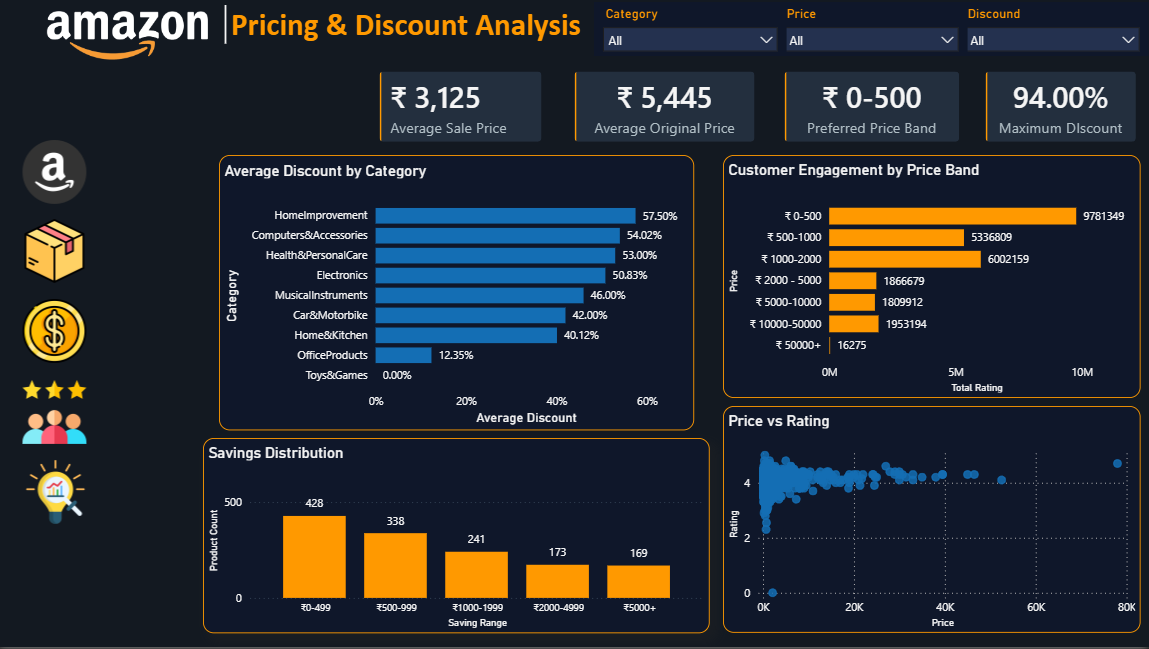

This screenshot's page, from the dashboard's own definition file:
{"tool":"powerbi","page":{"name":"Price","canvas":[1280,720],"ordinal":2},"visuals":[{"type":"slicer","fields":{"Values":["amazon.sale-price_bands"]},"box":[864.4,3.3,214.4,60],"z":0,"group":"g3"},{"type":"image","box":[24.4,13.3,241.1,54.4],"z":0,"group":"g2"},{"type":"cardVisual","fields":{"Data":["Avg(amazon.sale_price)"]},"box":[420,75.6,190,88.9],"z":0,"group":"g4"},{"type":"group","id":"g1","title":"Slides","box":[23.3,156.7,82.2,426.7],"z":0},{"type":"image","box":[23.3,156.7,81.5,71.2],"z":0,"group":"g1"},{"type":"image","box":[24.4,512.3,81.5,71.2],"z":500,"group":"g1"},{"type":"group","id":"g2","title":"Header Icon","box":[24.4,0,629.5,67.8],"z":1000},{"type":"shape","box":[253.9,0,400,56.7],"z":1000,"group":"g2"},{"type":"slicer","fields":{"Values":["amazon.main_category","amazon.sub_category"]},"box":[663.3,3.3,214.4,60],"z":1000,"group":"g3"},{"type":"cardVisual","fields":{"Data":["Avg(amazon.original_price)"]},"box":[636.7,75.6,210,88.9],"z":1000,"group":"g4"},{"type":"image","box":[23.3,244.5,81.5,71.2],"z":1000,"group":"g1"},{"type":"slicer","fields":{"Values":["amazon.discount_band"]},"box":[1065.6,3.3,214.4,60],"z":2000},{"type":"shape","box":[89.5,6.7,327.8,43.3],"z":2000,"group":"g2"},{"type":"cardVisual","fields":{"Data":["amazon.Preferred Price Band"]},"box":[870.1,75.6,204.4,88.9],"z":2000,"group":"g4"},{"type":"image","box":[23.3,333.2,81.5,71.2],"z":2000,"group":"g1"},{"type":"group","id":"g3","title":"Slicer","box":[663.3,3.3,415.6,60],"z":3000},{"type":"cardVisual","fields":{"Data":["Max(amazon.discount_pct)"]},"box":[1093.3,75.7,177.8,88.9],"z":3000,"group":"g4"},{"type":"image","box":[23.3,423.4,81.5,71.2],"z":3000,"group":"g1"},{"type":"group","id":"g4","title":"KPI","box":[420,75.6,851.1,88.9],"z":4000},{"type":"clusteredBarChart","title":"Customer Engagement by Price Band","fields":{"Y":["Sum(amazon.rating_count)"],"Category":["amazon.sale-price_bands"]},"box":[806.7,173.3,464.4,270],"z":5000},{"type":"clusteredBarChart","title":"Average Discount by Category","fields":{"Y":["Avg(amazon.discount_pct)"],"Category":["amazon.main_category"]},"box":[246.7,173.3,527.8,305.6],"z":6000},{"type":"clusteredColumnChart","title":"Savings Distribution","fields":{"Y":["Count(amazon.product_id)"],"Category":["amazon.Saving Bond"]},"box":[228.9,487.8,563.3,216.7],"z":7000},{"type":"scatterChart","title":"Price vs Rating","fields":{"X":["Avg(amazon.sale_price)"],"Y":["Avg(amazon.rating)"],"Category":["amazon.rating_count"]},"box":[806.7,452.2,464.4,252.2],"z":8000}]}

Visuals, with their boxes in screenshot pixels (x1, y1, x2, y2), scaled from the page's 1280x720 canvas onto the 1149x649 screenshot:
slicer - amazon.sale-price_bands: detection(776, 3, 968, 57)
image: detection(22, 12, 238, 61)
cardVisual - Avg(amazon.sale_price): detection(377, 68, 548, 148)
"Slides" group: detection(21, 141, 95, 526)
image: detection(21, 141, 94, 205)
image: detection(22, 462, 95, 526)
"Header Icon" group: detection(22, 0, 587, 61)
shape: detection(228, 0, 587, 51)
slicer - amazon.main_category x amazon.sub_category: detection(595, 3, 788, 57)
cardVisual - Avg(amazon.original_price): detection(572, 68, 760, 148)
image: detection(21, 220, 94, 285)
slicer - amazon.discount_band: detection(957, 3, 1148, 57)
shape: detection(80, 6, 375, 45)
cardVisual - amazon.Preferred Price Band: detection(781, 68, 965, 148)
image: detection(21, 300, 94, 365)
"Slicer" group: detection(595, 3, 968, 57)
cardVisual - Max(amazon.discount_pct): detection(981, 68, 1141, 148)
image: detection(21, 382, 94, 446)
"KPI" group: detection(377, 68, 1141, 148)
"Customer Engagement by Price Band" clusteredBarChart: detection(724, 156, 1141, 400)
"Average Discount by Category" clusteredBarChart: detection(221, 156, 695, 432)
"Savings Distribution" clusteredColumnChart: detection(205, 440, 711, 635)
"Price vs Rating" scatterChart: detection(724, 408, 1141, 635)
